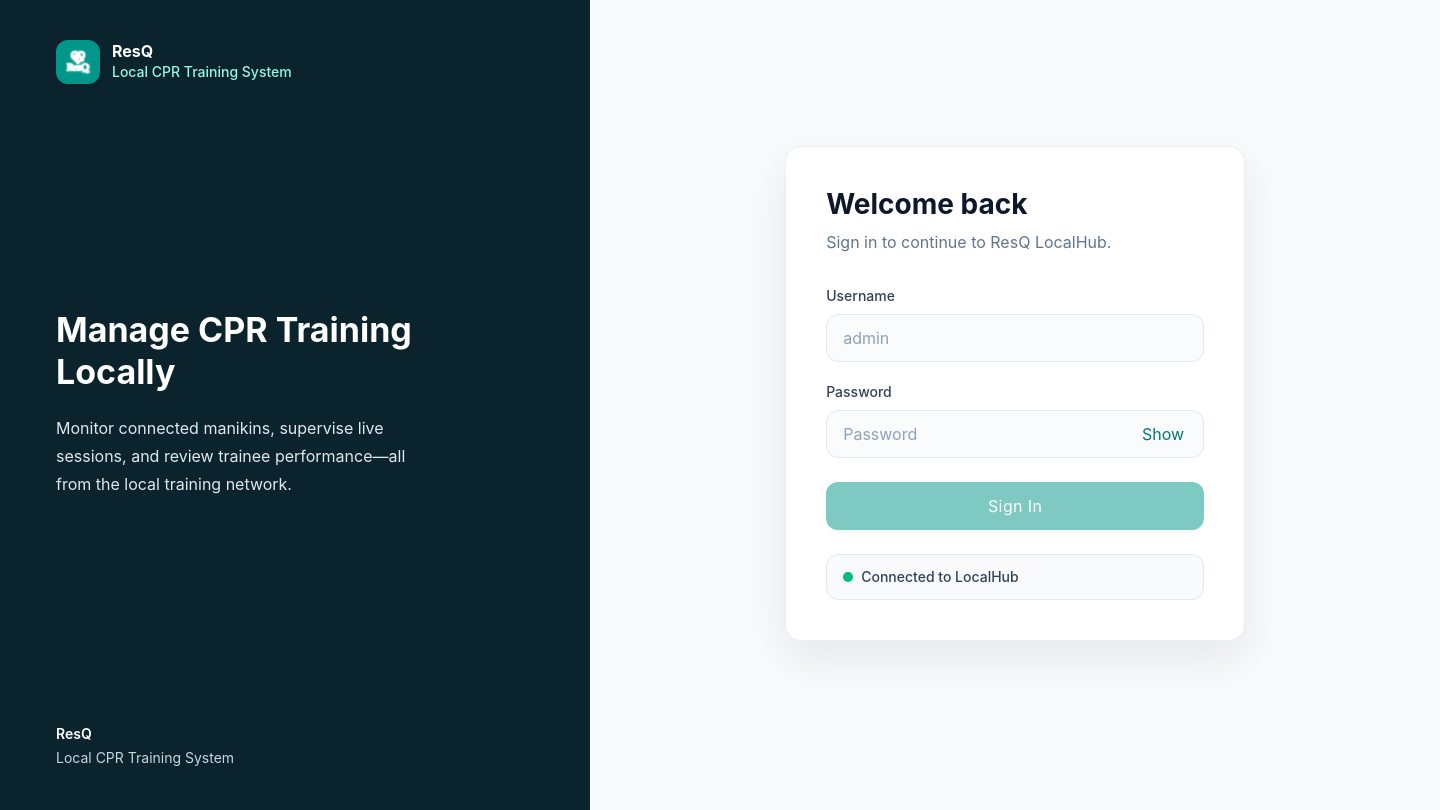
Test: V2 LoginPage › submits with Enter and maps invalid credentials to the friendly inline error
Type "instructor" into the field labelled "Username".
click(1015, 338); type("instructor")  # box [826,314,1204,362]
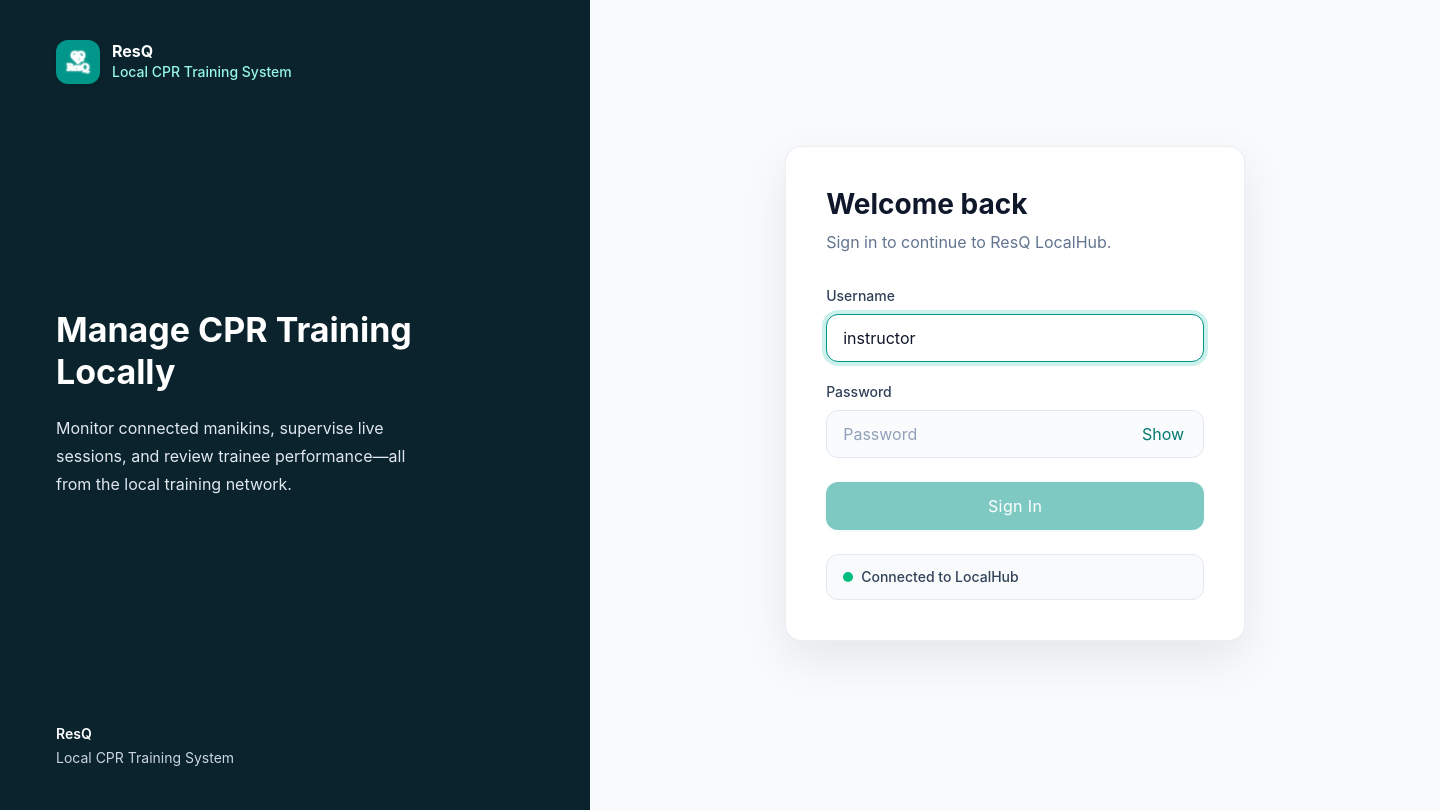
Type "wrong" into the password field labelled "Password".
click(1015, 434); type("wrong")  # box [826,410,1204,458]
Then press Enter
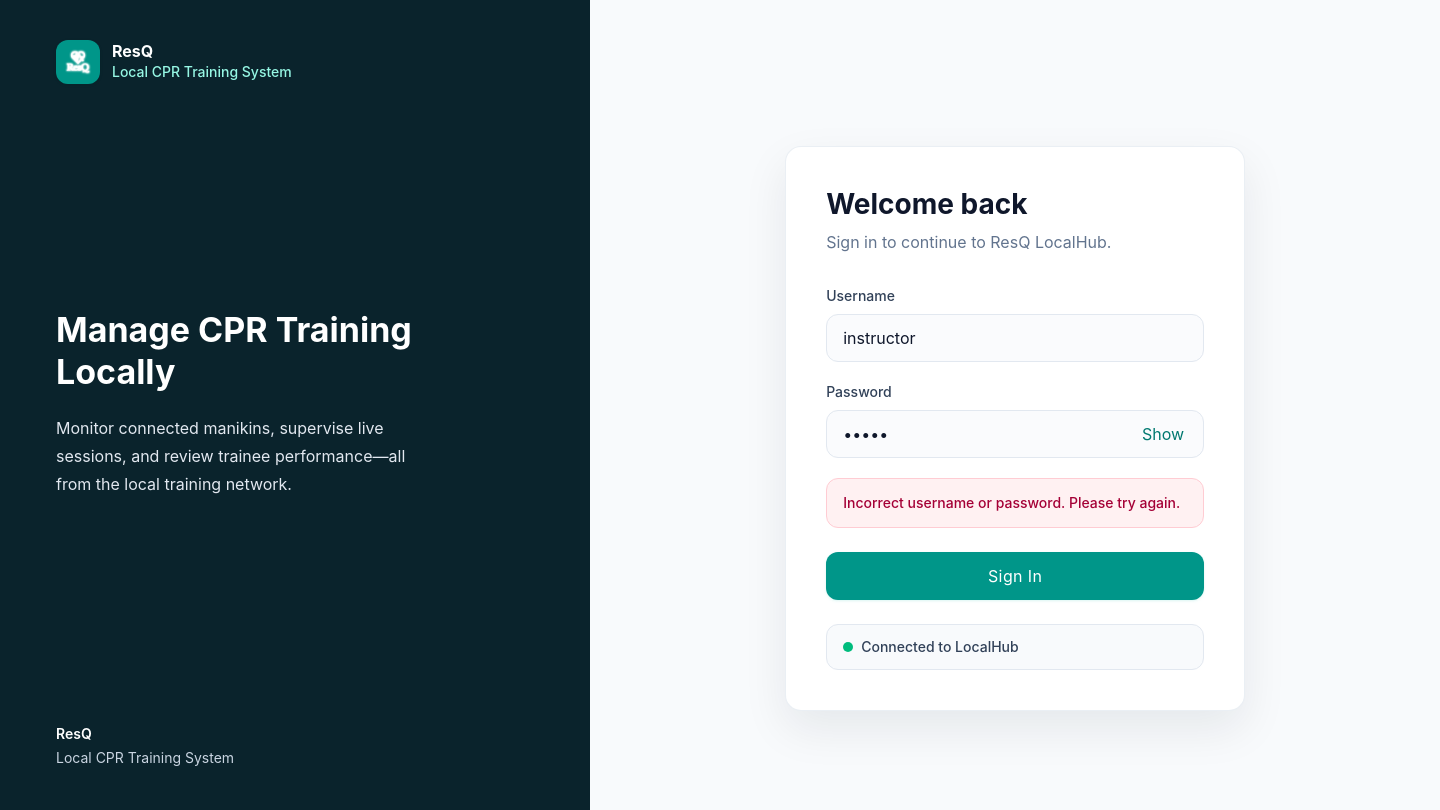
Expected: the message "Incorrect username or password. Please try again." is shown, [826,478,1204,528]
